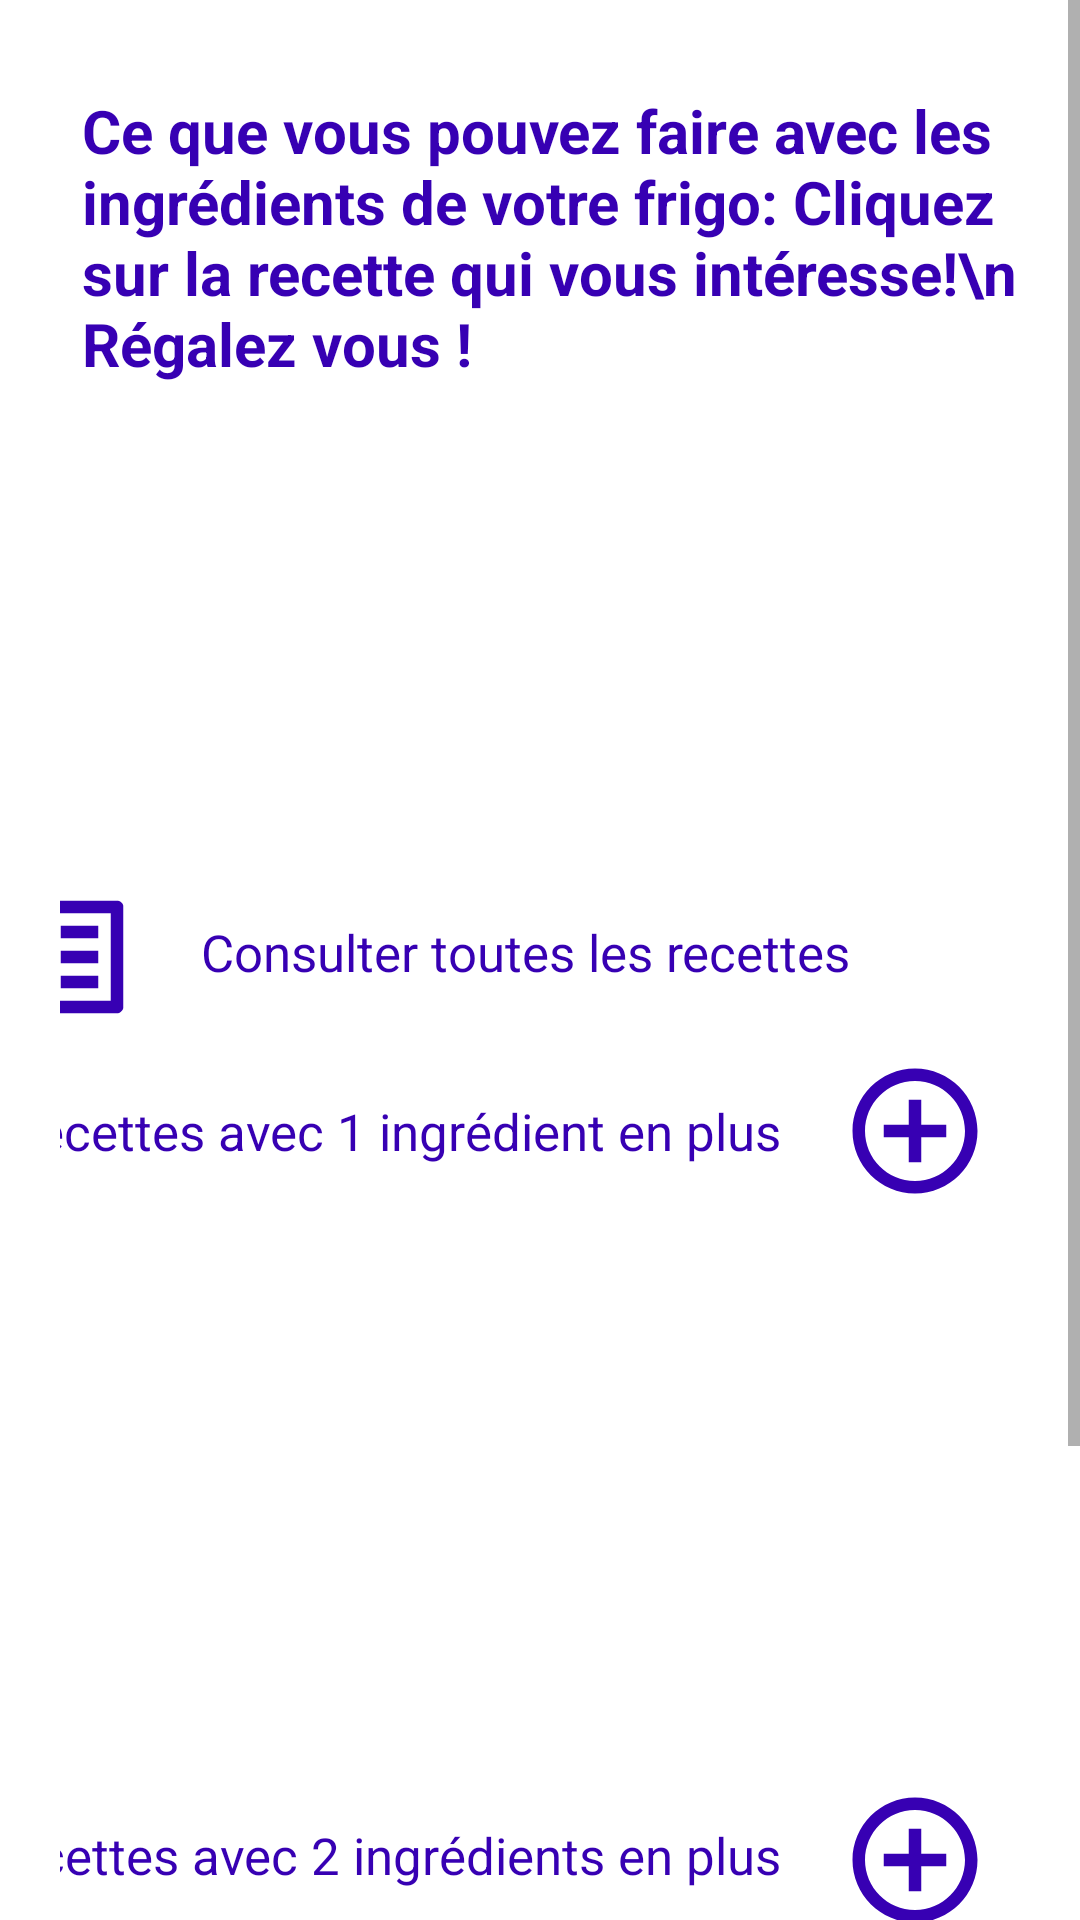

Screen size 1080px x 1920px. Icon name, then its center in pixels as (x,y):
more recipe: (915,1131), (915,1858)
